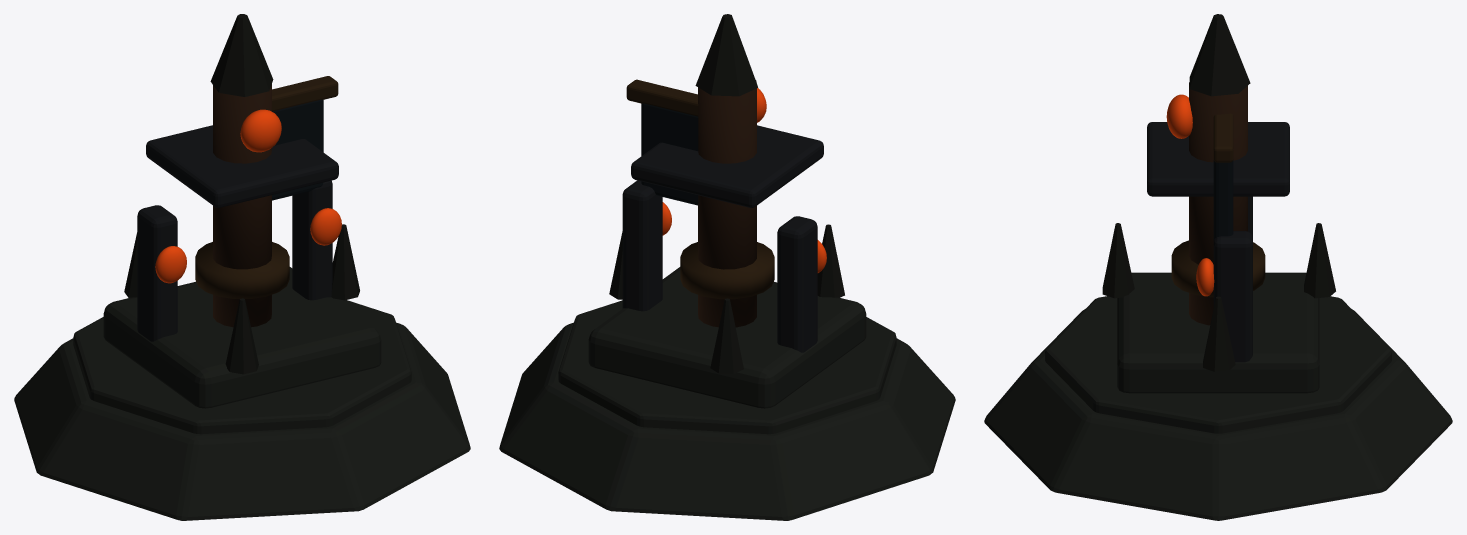
The model's file is TowerAura3_pose.obj.
The picture shows the model from 3 angles, left to right: view 1: azimuth 30°, elevation 25°; view 2: azimuth 150°, elevation 25°; view 3: azimuth 270°, elevation 25°; orthographic projection.
Parts seen in each view (by area): view 1: circular_stone_dais_lower_course, carved_stone_root, circular_stone_dais_upper_course, iron_signal_ring, oak_banner_mast, iron_ritual_pillar, iron_ritual_pillar.001, bronze_mast_collar, banner_apex, dark_command_banner, bone_command_ward.002, bronze_banner_bar (+5 smaller); view 2: circular_stone_dais_lower_course, carved_stone_root, circular_stone_dais_upper_course, oak_banner_mast, iron_signal_ring, iron_ritual_pillar, iron_ritual_pillar.001, bronze_mast_collar, banner_apex, dark_command_banner, bronze_banner_bar, bone_command_ward.001 (+2 smaller); view 3: circular_stone_dais_lower_course, circular_stone_dais_upper_course, carved_stone_root, iron_signal_ring, oak_banner_mast, iron_ritual_pillar.001, banner_apex, bronze_mast_collar, dark_command_banner, bone_command_ward, bone_command_ward.001, bone_command_ward.002 (+3 smaller).
Part boxes in pixels (x1,y1,x2,y2): circular_stone_dais_lower_course: (14, 322, 470, 520); carved_stone_root: (103, 267, 381, 408); circular_stone_dais_upper_course: (73, 298, 411, 434); iron_signal_ring: (146, 125, 338, 207); oak_banner_mast: (213, 84, 271, 327); iron_ritual_pillar: (137, 205, 177, 341); iron_ritual_pillar.001: (292, 180, 332, 300); bronze_mast_collar: (195, 242, 289, 298); banner_apex: (210, 14, 273, 96); dark_command_banner: (272, 99, 323, 200); bone_command_ward.002: (225, 298, 258, 374); bronze_banner_bar: (272, 76, 338, 111); circular_stone_dais_lower_course: (499, 322, 955, 520); carved_stone_root: (588, 267, 866, 408); circular_stone_dais_upper_course: (558, 300, 896, 434); oak_banner_mast: (698, 80, 756, 327); iron_signal_ring: (631, 125, 823, 207); iron_ritual_pillar: (777, 216, 817, 352); iron_ritual_pillar.001: (622, 180, 662, 311); bronze_mast_collar: (680, 242, 774, 299); banner_apex: (695, 14, 757, 96); dark_command_banner: (641, 103, 698, 205); bronze_banner_bar: (626, 79, 698, 116); bone_command_ward.001: (710, 298, 743, 373); circular_stone_dais_lower_course: (984, 309, 1452, 520); circular_stone_dais_upper_course: (1045, 296, 1391, 433); carved_stone_root: (1117, 272, 1319, 393); iron_signal_ring: (1147, 122, 1289, 196); oak_banner_mast: (1189, 82, 1247, 325); iron_ritual_pillar.001: (1213, 231, 1252, 362); banner_apex: (1189, 14, 1250, 96); bronze_mast_collar: (1171, 240, 1265, 297); dark_command_banner: (1213, 160, 1233, 238); bone_command_ward: (1203, 296, 1235, 371); bone_command_ward.001: (1304, 223, 1335, 298); bone_command_ward.002: (1102, 223, 1134, 298).
Bounding box in the file's own units: 1.9 × 1.82 × 1.9.
